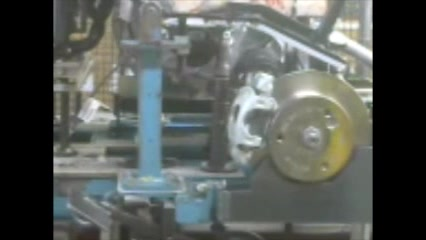DD1: (274, 69, 371, 184)
P1: (225, 70, 280, 169)
